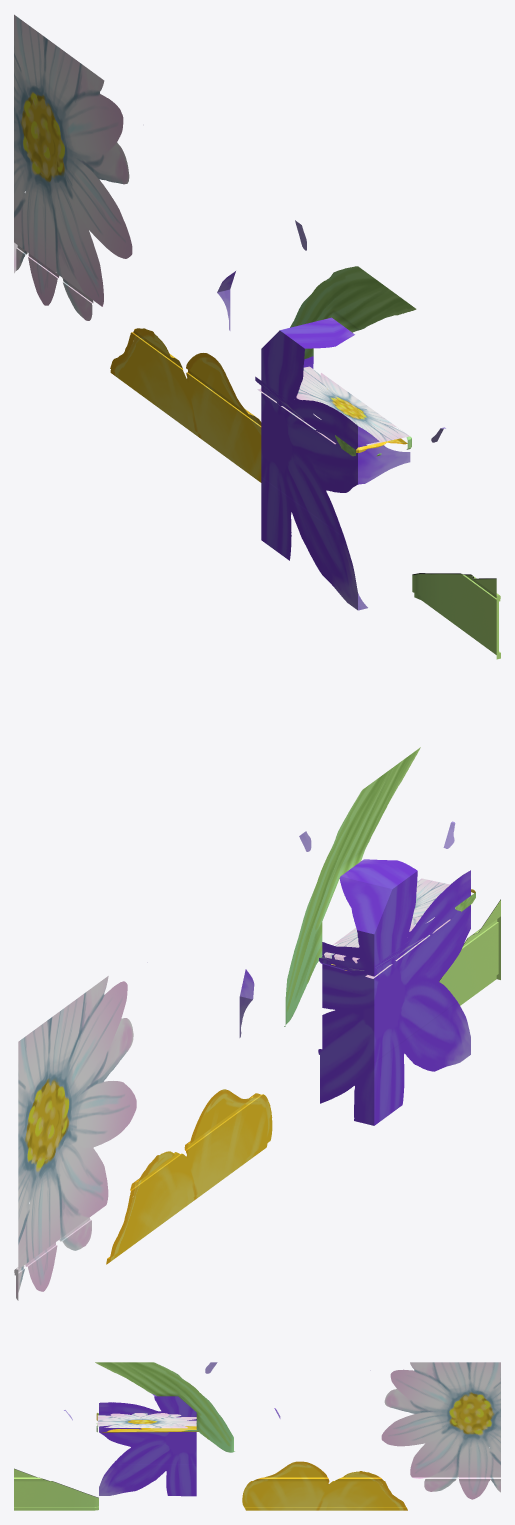
File: rightwall.fbx
3 renders of one model, top to bottom at view 1: azimuth 30°, elevation 25°; view 2: azimuth 150°, elevation 25°; view 3: azimuth 270°, elevation 25°, orthographic. The views are drawn at different scales.
Parts seen in each view (by area): view 1: right_wall, shelf; view 2: right_wall, shelf; view 3: right_wall, shelf.
Part boxes in pixels (x1,y1,x2,y2): right_wall: (14, 14, 500, 659); shelf: (255, 366, 411, 456); right_wall: (14, 747, 500, 1300); shelf: (319, 878, 475, 978); right_wall: (14, 1362, 500, 1510); shelf: (96, 1413, 198, 1432).
Size of the model in its own units: 84.5 by 379 by 1137.
